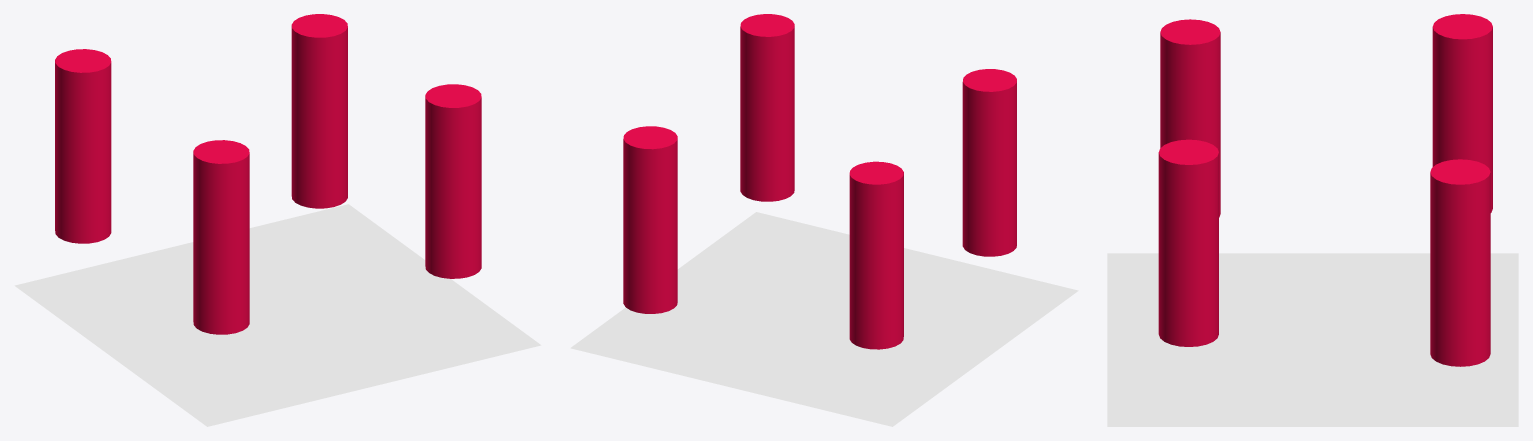
File: Sem título.glb
The picture shows the model from 3 angles, left to right: view 1: azimuth 30°, elevation 25°; view 2: azimuth 150°, elevation 25°; view 3: azimuth 270°, elevation 25°; orthographic projection. The views are drawn at different scales.
Visible parts, largest first — view 1: ImageTargetPreview, Cylinder__3_, Cylinder__1_, Cylinder__2_, Cylinder; view 2: ImageTargetPreview, Cylinder, Cylinder__1_, Cylinder__3_, Cylinder__2_; view 3: ImageTargetPreview, Cylinder__2_, Cylinder__1_, Cylinder, Cylinder__3_.
Boxes of the visible parts, x1,y1,x2,y2 form: ImageTargetPreview: [14, 204, 541, 426]; Cylinder__3_: [193, 140, 249, 334]; Cylinder__1_: [425, 84, 481, 278]; Cylinder__2_: [291, 14, 347, 208]; Cylinder: [55, 49, 111, 243]; ImageTargetPreview: [570, 212, 1078, 426]; Cylinder: [849, 161, 903, 349]; Cylinder__1_: [740, 14, 794, 201]; Cylinder__3_: [962, 69, 1016, 256]; Cylinder__2_: [623, 126, 677, 313]; ImageTargetPreview: [1107, 253, 1518, 426]; Cylinder__2_: [1430, 159, 1490, 366]; Cylinder__1_: [1158, 139, 1218, 346]; Cylinder: [1432, 14, 1492, 212]; Cylinder__3_: [1160, 19, 1220, 217].
Size of the model in its own units: 1.02 by 0.683 by 1.02.
